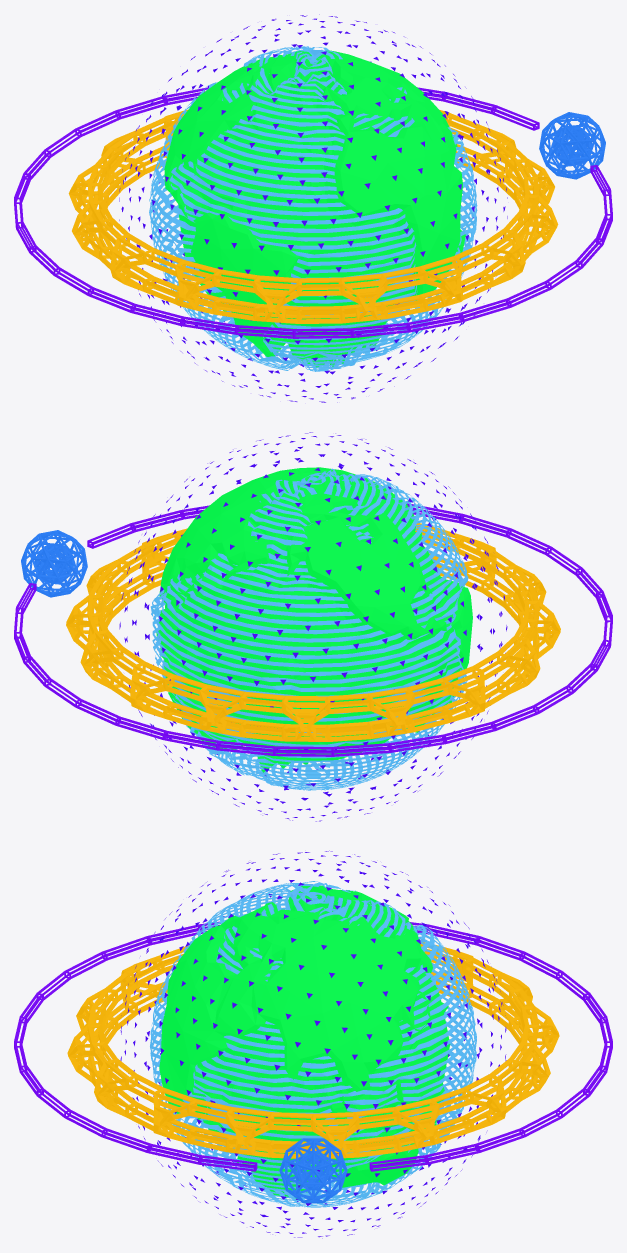
3 renders of one model, top to bottom at view 1: azimuth 30°, elevation 25°; view 2: azimuth 150°, elevation 25°; view 3: azimuth 270°, elevation 25°, orthographic.
Visible parts, largest first — view 1: TERRE1, Circle.643, Sphere.002, Circle, Circle.455, Icosphere.002; view 2: TERRE1, Sphere.002, Circle.643, Circle, Circle.455, Icosphere.002; view 3: TERRE1, Circle.643, Sphere.002, Circle, Circle.455, Icosphere.002.
Boxes of the visible parts, x1,y1,x2,y2 form: TERRE1: (164,50,465,367); Circle.643: (68,109,558,323); Sphere.002: (149,46,477,371); Circle: (14,87,612,338); Circle.455: (119,14,507,402); Icosphere.002: (539,112,605,179); TERRE1: (156,467,472,772); Sphere.002: (150,468,468,790); Circle.643: (66,523,560,741); Circle: (14,503,612,756); Circle.455: (119,432,507,821); Icosphere.002: (21,530,87,597); TERRE1: (159,885,450,1198); Circle.643: (67,942,559,1158); Sphere.002: (150,881,476,1207); Circle: (14,921,612,1171); Circle.455: (120,850,506,1238); Icosphere.002: (279,1138,347,1203).
Size of the model in its own units: 12.94 by 7.98 by 12.3.
